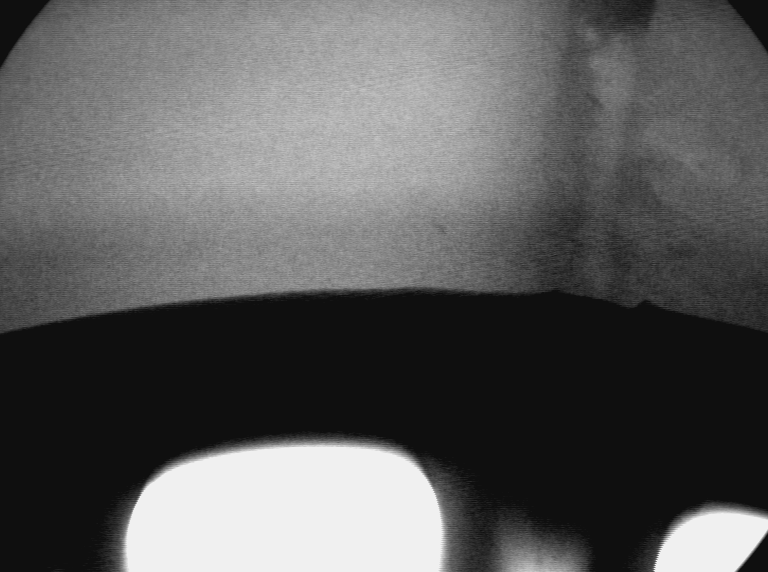defect: (644, 109, 752, 192)
